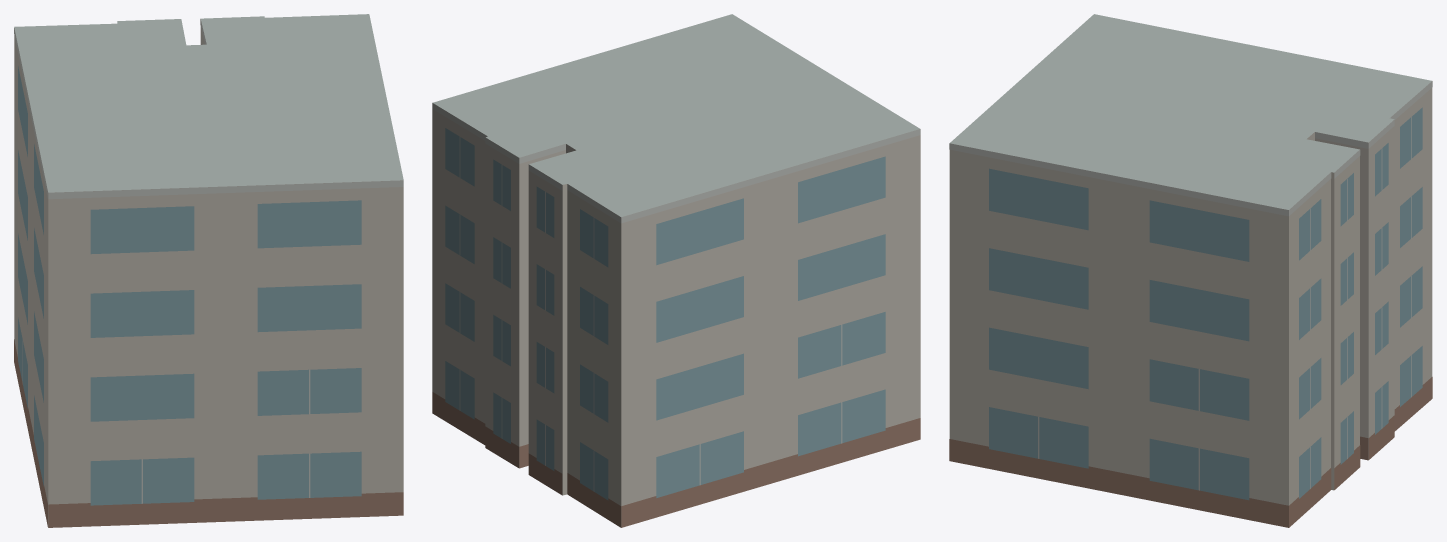
Rendered from survey-upis-32598762.glb.
3 views of the same model, side by side, from view 1: azimuth 30°, elevation 25°; view 2: azimuth 150°, elevation 25°; view 3: azimuth 270°, elevation 25° (orthographic). The views are drawn at different scales.
Visible parts, largest first — view 1: survey-upis-32598762.tmp; view 2: survey-upis-32598762.tmp; view 3: survey-upis-32598762.tmp.
Boxes of the visible parts, bbox=[...] form: survey-upis-32598762.tmp: bbox=[14, 14, 403, 527]; survey-upis-32598762.tmp: bbox=[432, 14, 920, 527]; survey-upis-32598762.tmp: bbox=[949, 14, 1432, 527].
Bounding box in the file's own units: 16.29 × 12.3 × 16.95.
